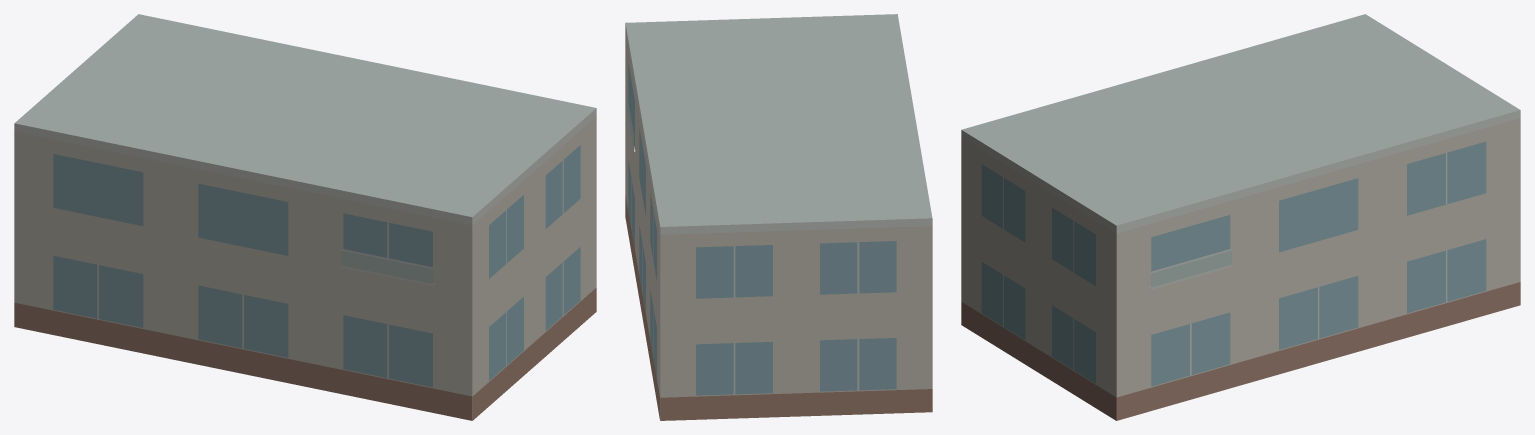
The model's file is survey-upis-32907930.glb.
The picture shows the model from 3 angles, left to right: view 1: azimuth 30°, elevation 25°; view 2: azimuth 150°, elevation 25°; view 3: azimuth 270°, elevation 25°; orthographic projection. The views are drawn at different scales.
Parts seen in each view (by area): view 1: survey-upis-32907930.tmp; view 2: survey-upis-32907930.tmp; view 3: survey-upis-32907930.tmp.
Part boxes in pixels (left/top/right/bottom): survey-upis-32907930.tmp: left=14, top=14, right=596, bottom=420; survey-upis-32907930.tmp: left=625, top=14, right=932, bottom=420; survey-upis-32907930.tmp: left=961, top=14, right=1520, bottom=420.
Size of the model in its own units: 14.19 by 6.1 by 15.85.
